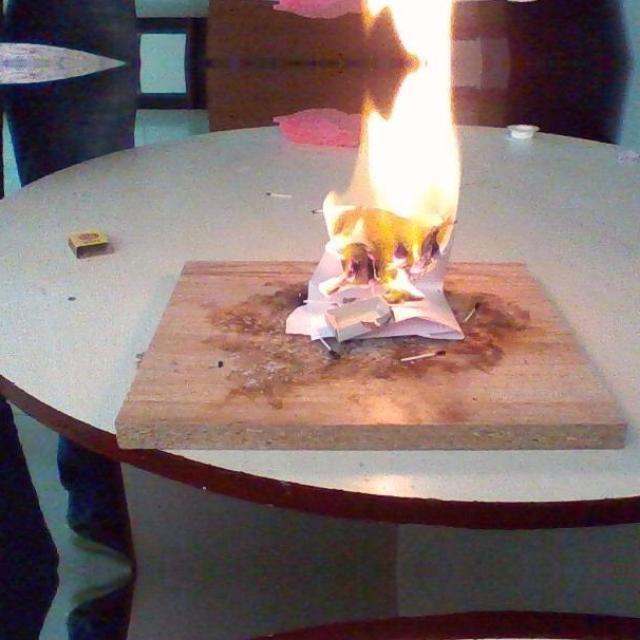smoke: (316, 64, 466, 302), (316, 0, 466, 62)
